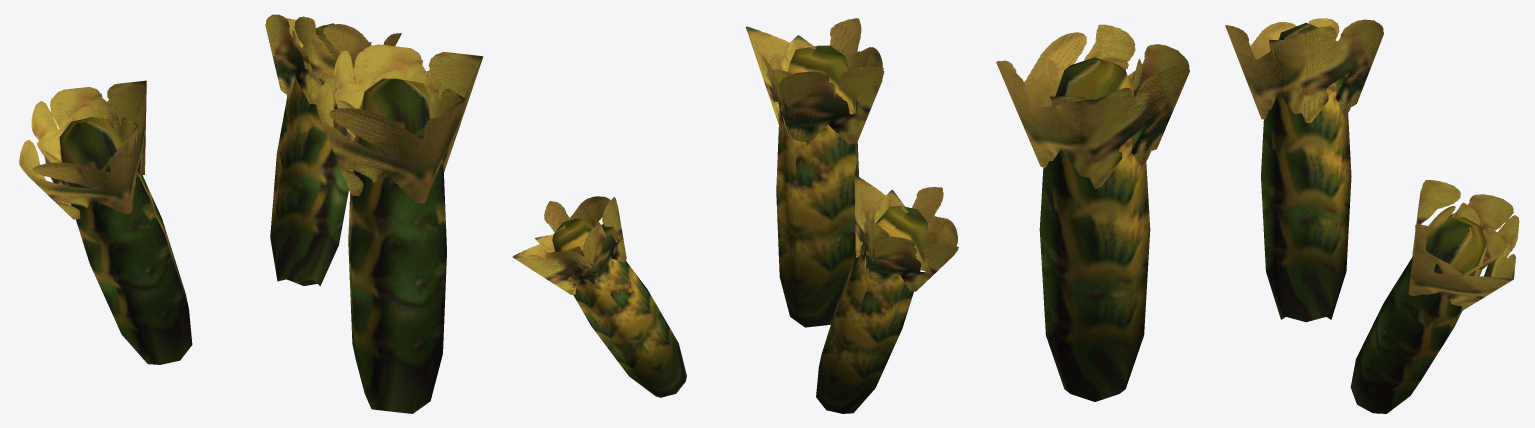
3 views of the same model, side by side, from view 1: azimuth 30°, elevation 25°; view 2: azimuth 150°, elevation 25°; view 3: azimuth 270°, elevation 25° (orthographic). The views are drawn at different scales.
Parts seen in each view (by area): view 1: gm2; view 2: gm2; view 3: gm2.
Part boxes in pixels (box(x1,y1,x2,y2)): gm2: box(19, 14, 483, 413); gm2: box(512, 18, 958, 413); gm2: box(996, 18, 1519, 413).
Bounding box in the file's own units: 459 × 324 × 464.
